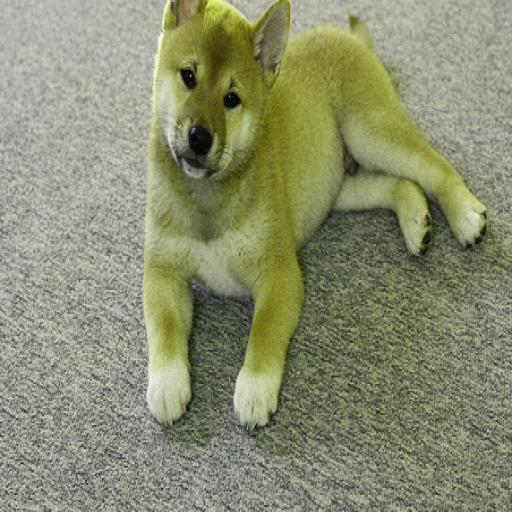dog_face: (155, 0, 279, 171)
